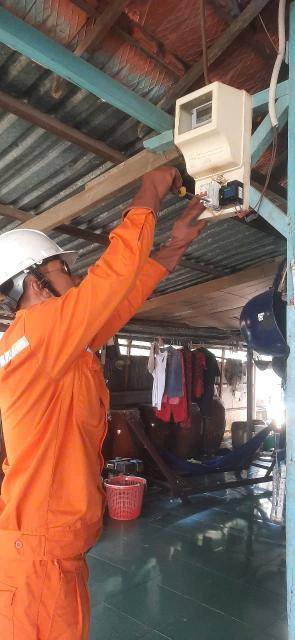gloves: (149, 192, 230, 270), (117, 157, 194, 216)
helmet: (0, 214, 90, 302)
